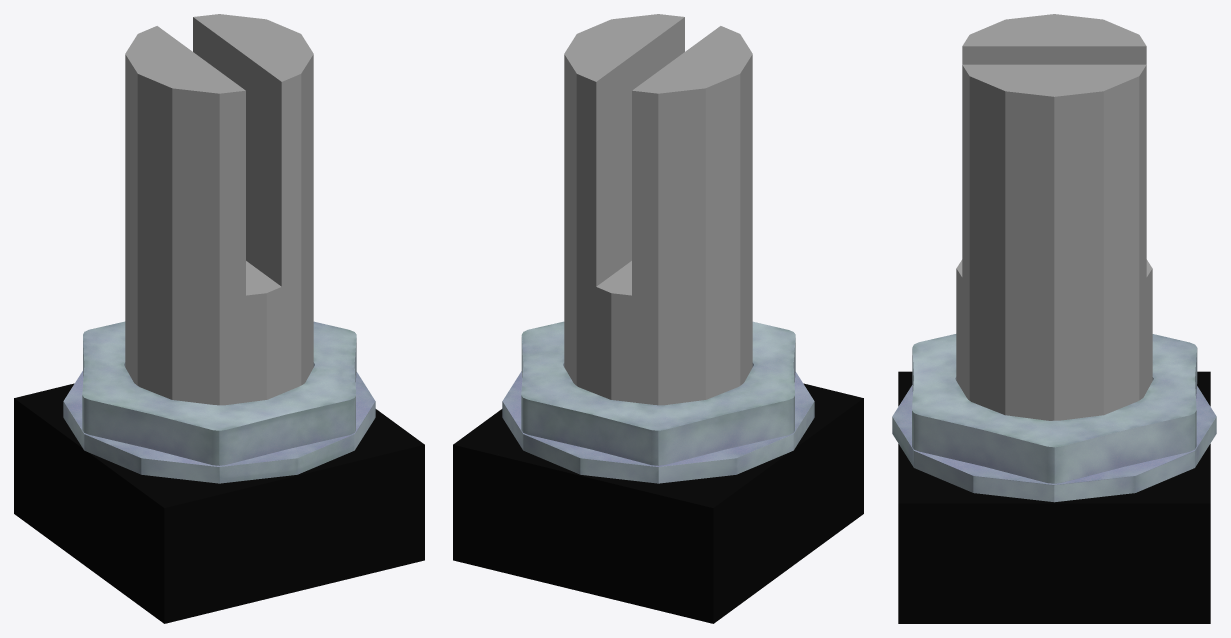
Rendered from Insulator.fbx.
The picture shows the model from 3 angles, left to right: view 1: azimuth 30°, elevation 25°; view 2: azimuth 150°, elevation 25°; view 3: azimuth 270°, elevation 25°; orthographic projection. The views are drawn at different scales.
Parts seen in each view (by area): view 1: pCube2; view 2: pCube2; view 3: pCube2.
Part boxes in pixels (x1=…): pCube2: x1=14, y1=14, x2=424, y2=623; pCube2: x1=453, y1=14, x2=863, y2=623; pCube2: x1=892, y1=14, x2=1216, y2=623.
Bounding box in the file's own units: 2 × 3.42 × 2.
3 materials, 2 textured.
